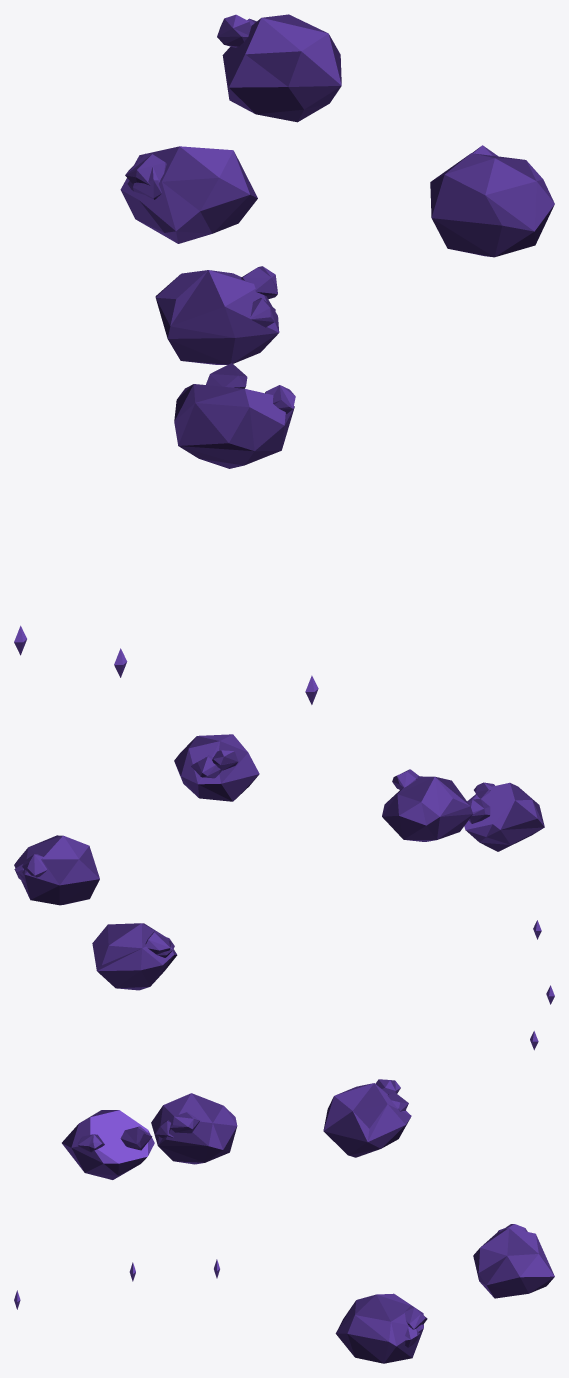
Rendered from Leaves_A.glb.
3 views of the same model, one above another, from view 1: azimuth 30°, elevation 25°; view 2: azimuth 150°, elevation 25°; view 3: azimuth 270°, elevation 25° (orthographic). The views are drawn at different scales.
Visible parts, largest first — view 1: Leaves; view 2: Leaves; view 3: Leaves.
Boxes of the visible parts, box(x1,y1,x2,y2) form: Leaves: box(14, 14, 554, 704); Leaves: box(14, 734, 554, 1050); Leaves: box(14, 1079, 554, 1363).
Size of the model in its own units: 23.16 by 15.64 by 24.44.
